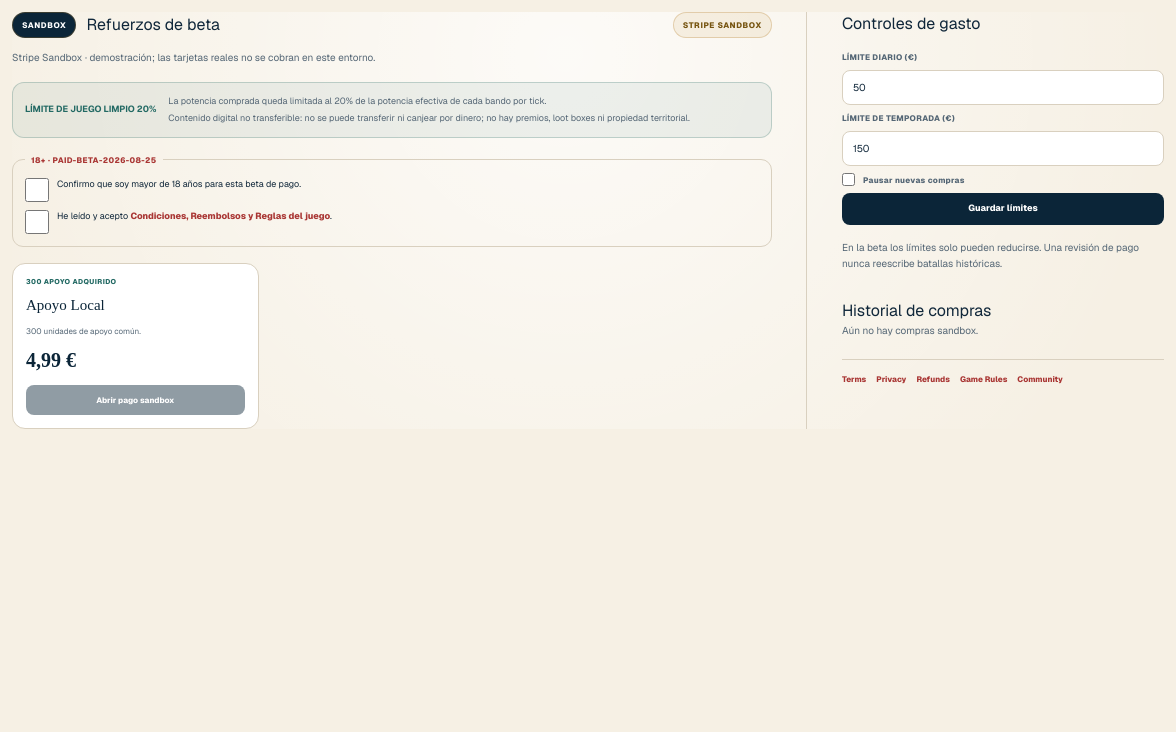
Scenario: PaymentPanel › saves reduced spending limits and a voluntary purchase pause
Replace the text in the number field labelled "Límite diario (€)" with "20" at (1003, 88), box [842, 70, 1164, 105]
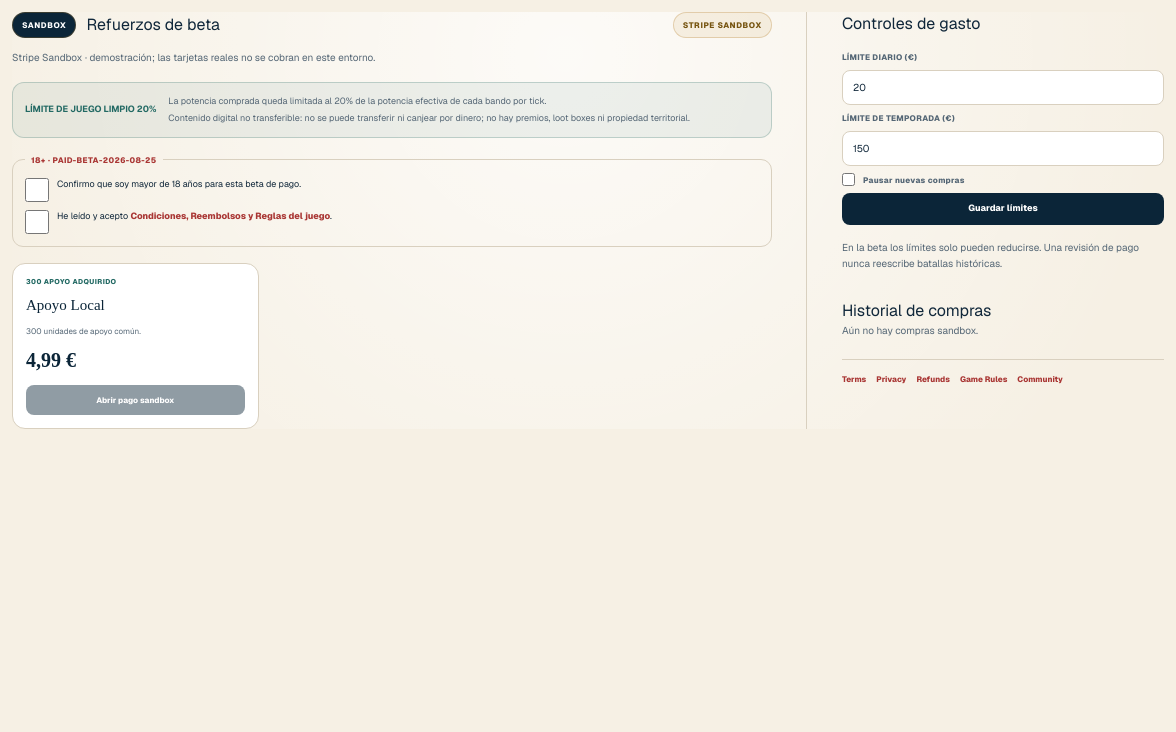
Replace the text in the number field labelled "Límite de temporada (€)" with "70" at (1003, 148), box [842, 131, 1164, 166]
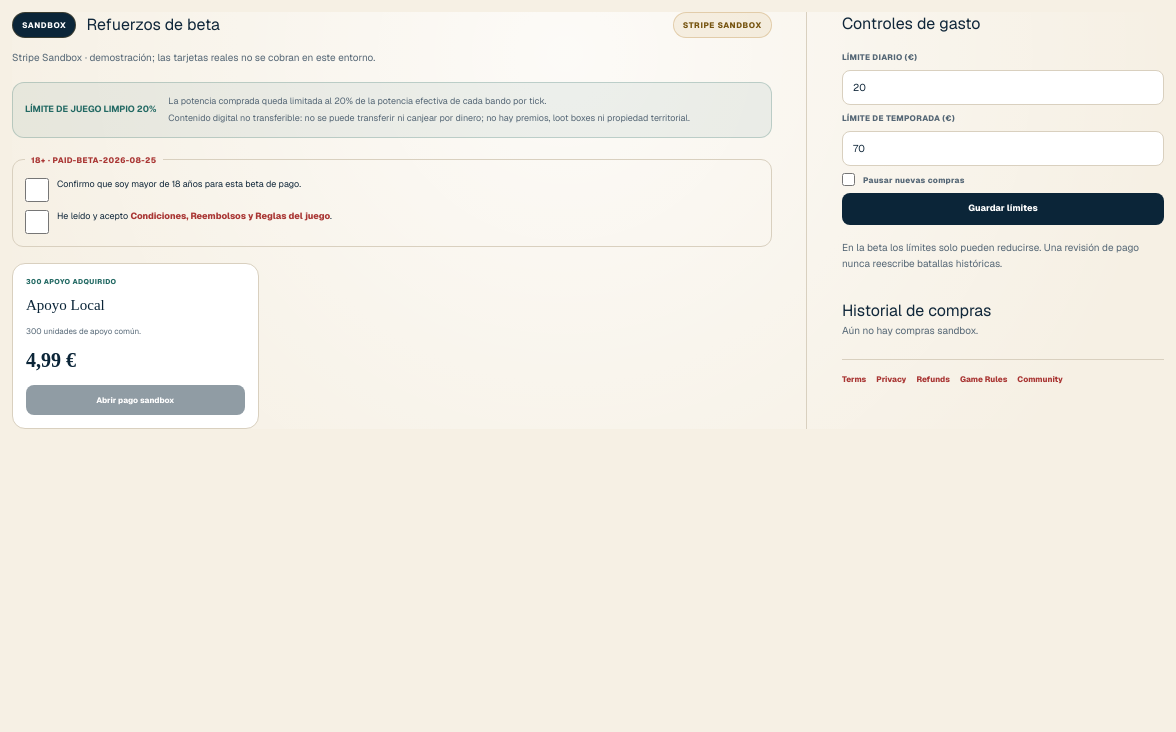
Click the checkbox labelled "Pausar nuevas compras" at (848, 180), box [842, 173, 855, 186]
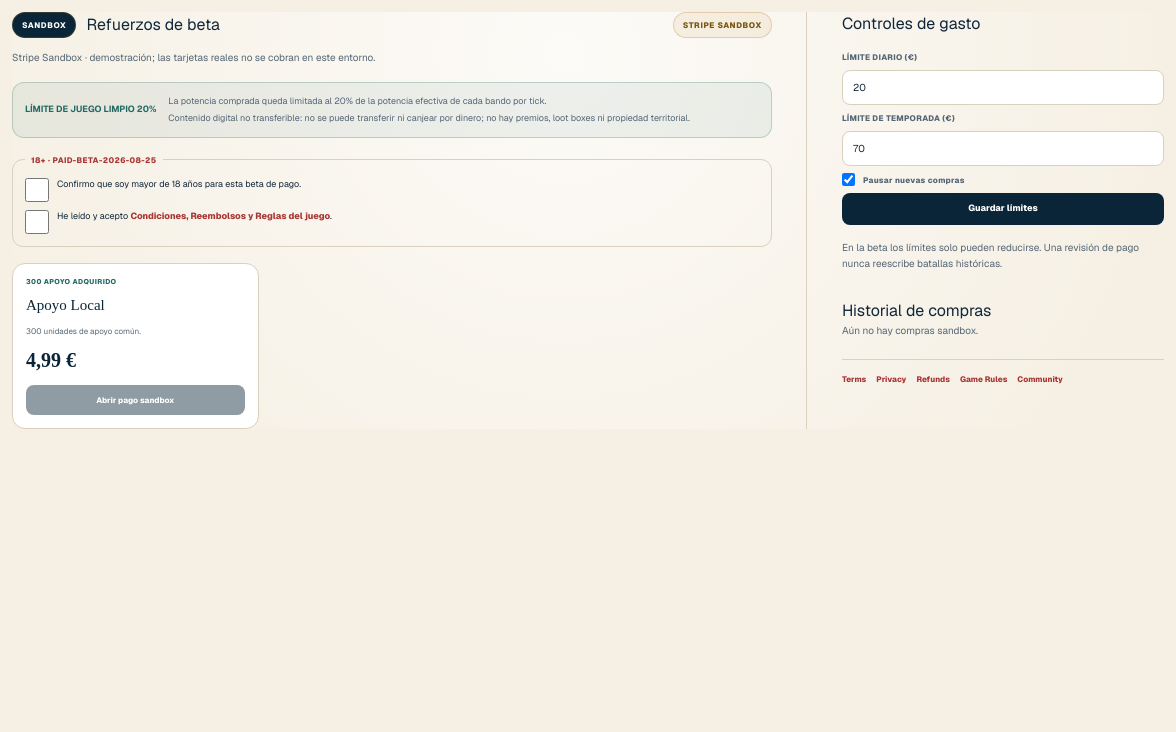
Click the button "Guardar límites" at (1003, 209), box [842, 193, 1164, 224]
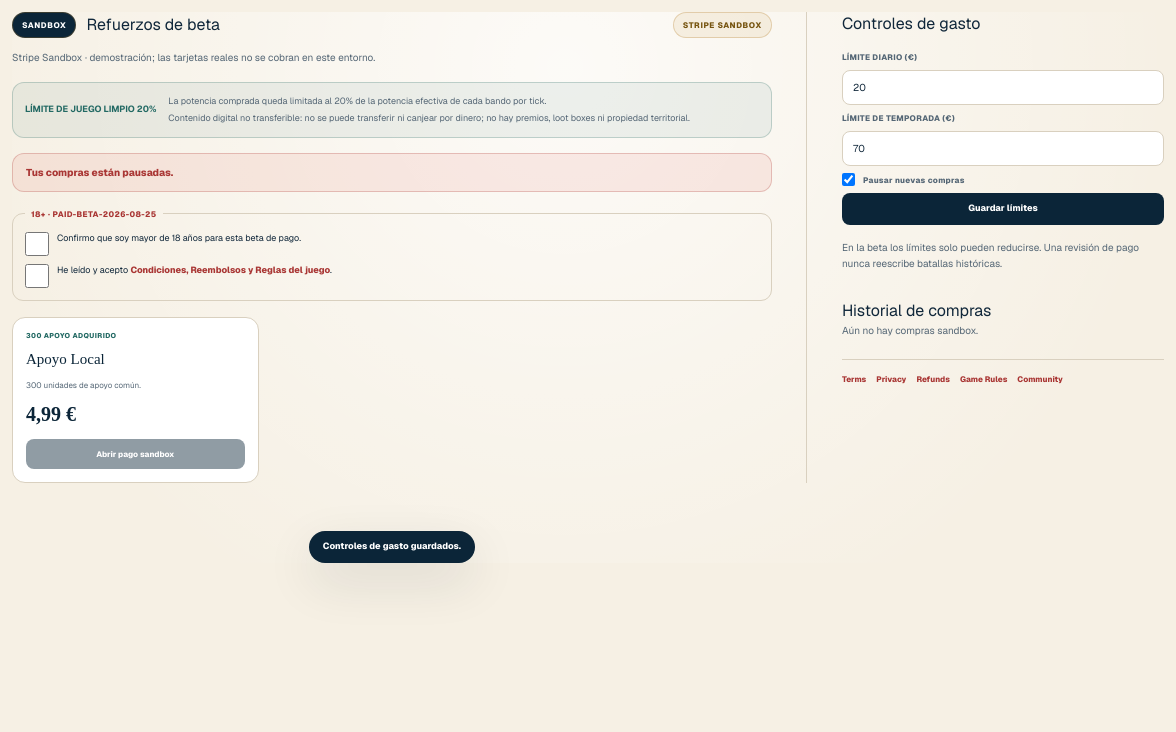
Check: the message shows "guardados", box [323, 540, 461, 552]
